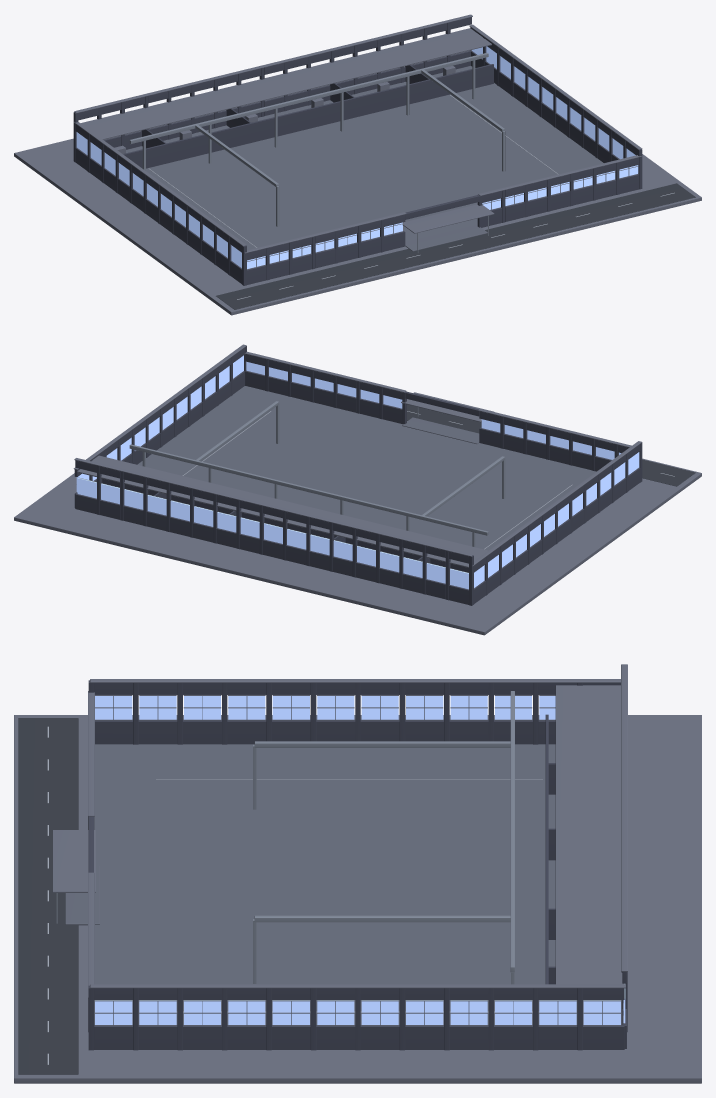
File: factory_hall_lowpoly.glb
3 views of the same model, one above another, from view 1: azimuth 30°, elevation 25°; view 2: azimuth 150°, elevation 25°; view 3: azimuth 270°, elevation 25° (orthographic). The views are drawn at different scales.
Visible parts, largest first — view 1: Production floor, Foundation, Rear partial roof, Front service road, Utility partition, Rear facade sill, Rear facade lintel, West facade sill, Front left sill, Front right sill, East facade sill, Crane runway (+14 smaller); view 2: Production floor, Foundation, Rear facade sill, Rear partial roof, Rear facade lintel, West facade sill, Front right sill, Crane runway, Front left sill, Front service road, East facade sill, Utility partition (+14 smaller); view 3: Production floor, Foundation, Rear partial roof, Front service road, East facade sill, West facade sill, East facade lintel, West facade lintel, East facade coping, Loading canopy, Rear facade coping, West facade coping (+29 smaller).
Boxes of the visible parts, left/top/right/bottom form: Production floor: left=126, top=66, right=603, bottom=250; Foundation: left=14, top=50, right=701, bottom=315; Rear partial roof: left=81, top=28, right=491, bottom=139; Front service road: left=216, top=183, right=695, bottom=309; Utility partition: left=123, top=64, right=493, bottom=168; Rear facade sill: left=104, top=50, right=471, bottom=149; Rear facade lintel: left=78, top=17, right=471, bottom=120; West facade sill: left=75, top=147, right=241, bottom=283; Front left sill: left=247, top=231, right=405, bottom=284; Front right sill: left=482, top=174, right=638, bottom=227; East facade sill: left=470, top=50, right=619, bottom=162; Crane runway: left=129, top=53, right=488, bottom=143; Production floor: left=137, top=386, right=596, bottom=550; Foundation: left=14, top=421, right=701, bottom=635; Rear facade sill: left=75, top=493, right=468, bottom=604; Rear partial roof: left=77, top=455, right=488, bottom=567; Rear facade lintel: left=75, top=460, right=468, bottom=563; West facade sill: left=474, top=467, right=640, bottom=603; Front right sill: left=245, top=370, right=402, bottom=423; Crane runway: left=129, top=444, right=488, bottom=535; Front left sill: left=479, top=427, right=611, bottom=471; Front service road: left=407, top=404, right=695, bottom=486; East facade sill: left=74, top=371, right=244, bottom=507; Utility partition: left=102, top=478, right=468, bottom=572; Production floor: left=94, top=744, right=621, bottom=1024; Foundation: left=14, top=715, right=701, bottom=1083; Rear partial roof: left=555, top=685, right=624, bottom=984; Front service road: left=18, top=718, right=78, bottom=1074; East facade sill: left=94, top=1025, right=624, bottom=1049; West facade sill: left=95, top=719, right=555, bottom=744; East facade lintel: left=94, top=988, right=624, bottom=999; West facade lintel: left=94, top=683, right=620, bottom=694; East facade coping: left=90, top=984, right=625, bottom=988; Loading canopy: left=52, top=830, right=95, bottom=892; Rear facade coping: left=621, top=664, right=627, bottom=971; West facade coping: left=90, top=679, right=620, bottom=682.
Size of the model in its own units: 100 by 10.84 by 80.
